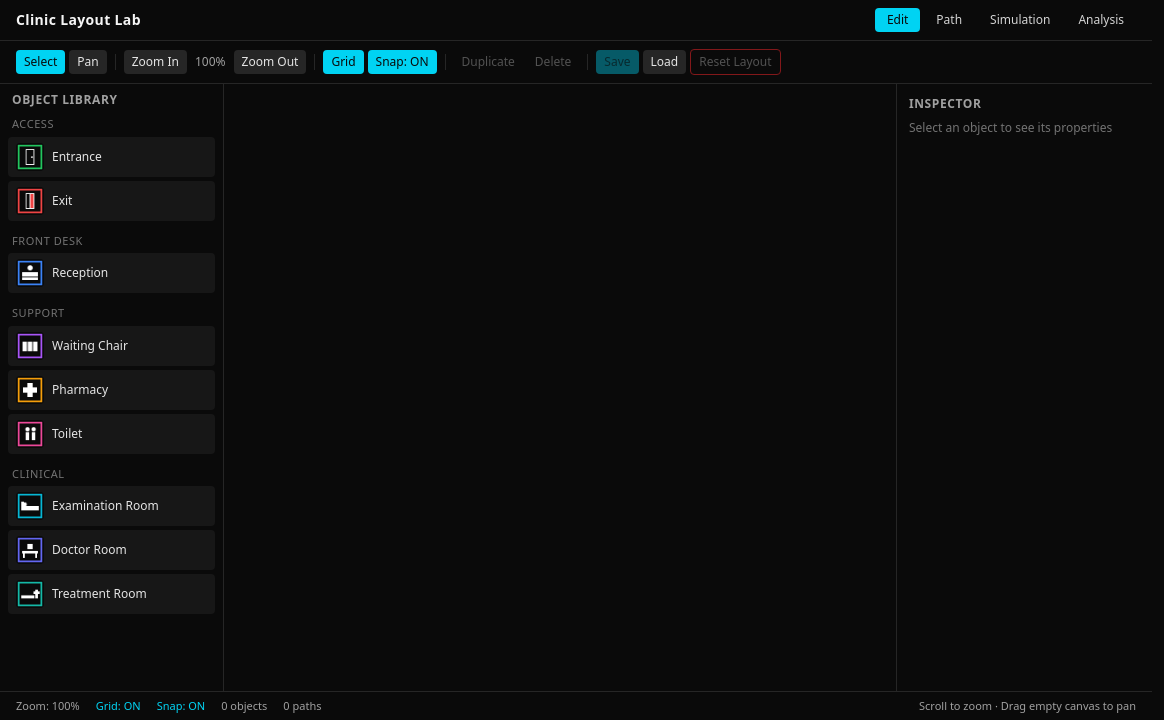
Test case: EditorApp (Phase 1 UI) › selects an object by clicking it on the canvas (AC-003)
Click the button "Entrance": click(112, 156) x1=8 y1=136 x2=215 y2=176
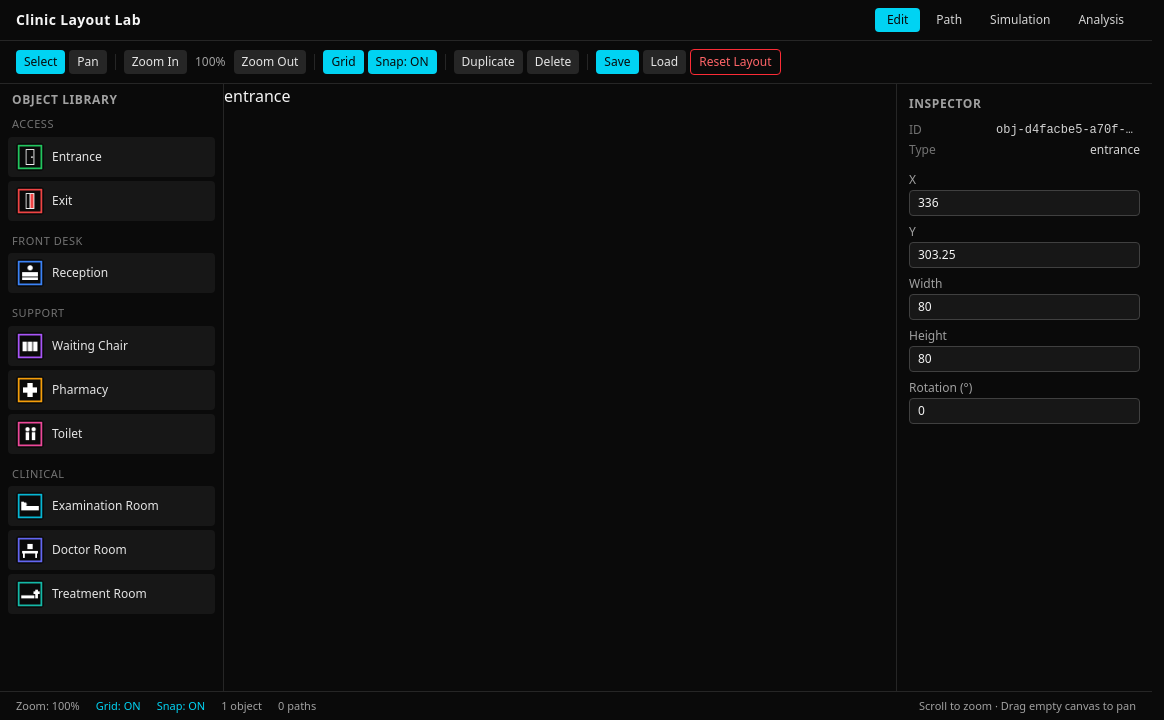
Click the button "Exit": click(112, 200) x1=8 y1=180 x2=215 y2=220
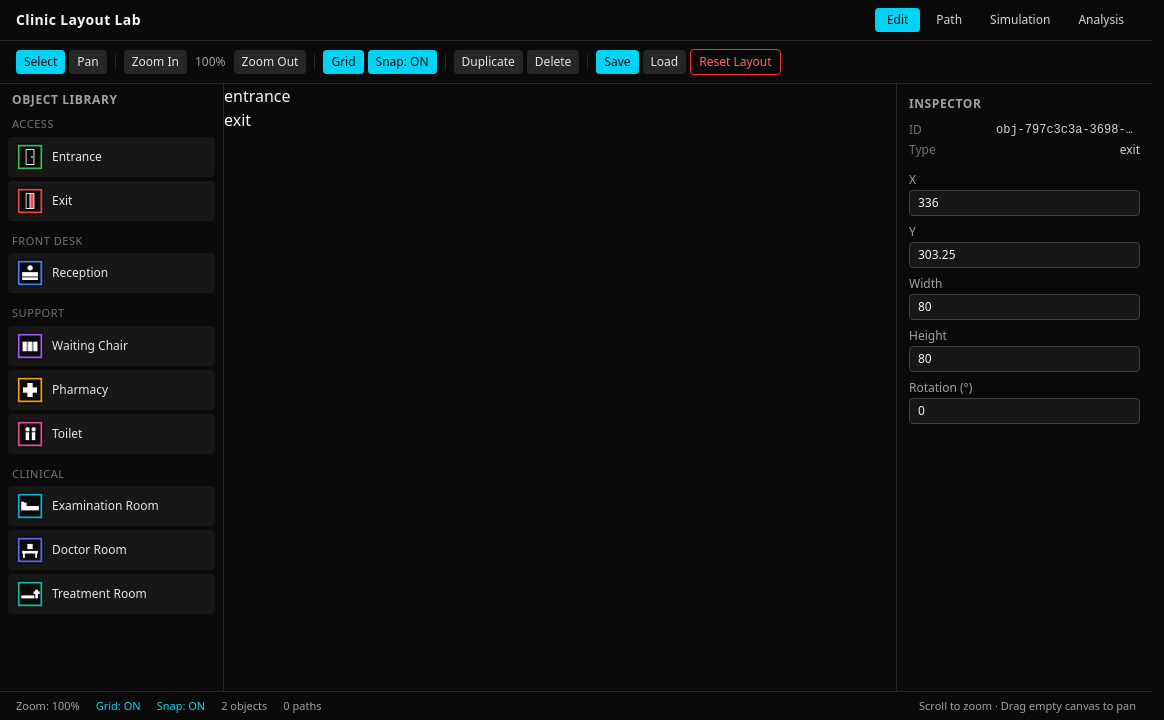
Click the element showing "entrance": click(257, 96) x1=224 y1=85 x2=290 y2=107
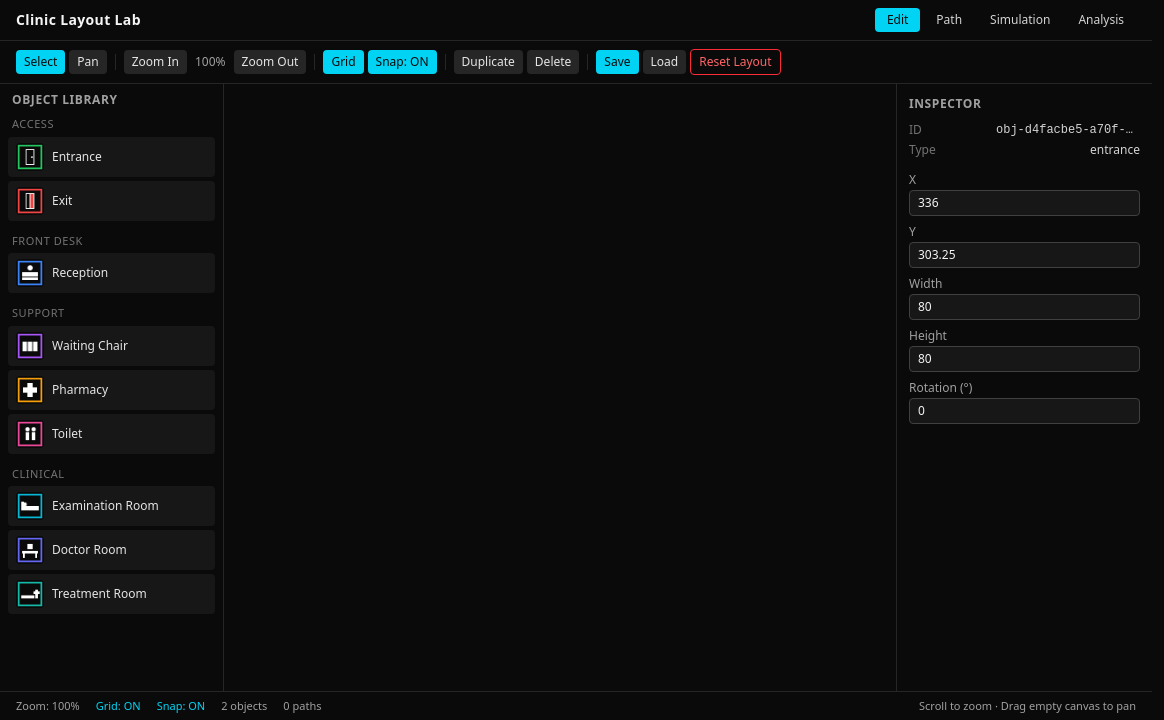
Expected: the text "entrance" is shown, x1=1090 y1=142 x2=1140 y2=158
